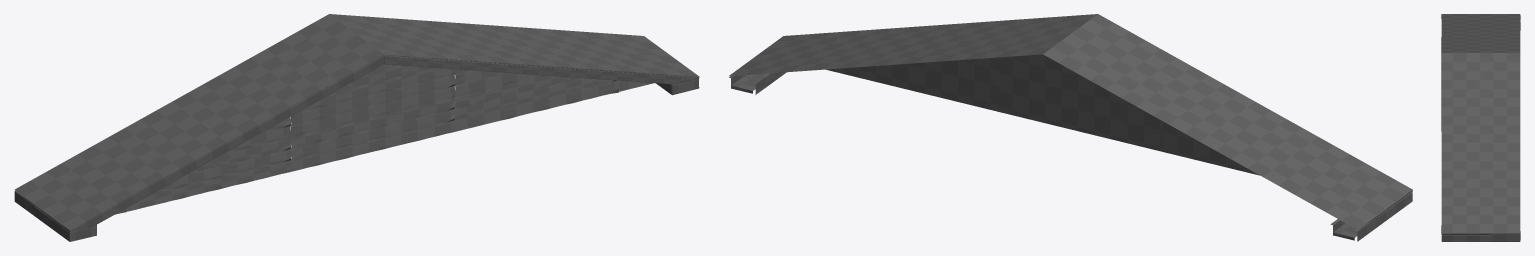
Rendered from SM_House_Roof_A_LongEnd.glb.
3 views of the same model, side by side, from view 1: azimuth 30°, elevation 25°; view 2: azimuth 150°, elevation 25°; view 3: azimuth 270°, elevation 25° (orthographic). The views are drawn at different scales.
Parts seen in each view (by area): view 1: SM_House_Roof_A_LongEnd; view 2: SM_House_Roof_A_LongEnd; view 3: SM_House_Roof_A_LongEnd.
Part boxes in pixels (<box>): SM_House_Roof_A_LongEnd: <box>14,14,699,241</box>; SM_House_Roof_A_LongEnd: <box>729,14,1412,241</box>; SM_House_Roof_A_LongEnd: <box>1441,14,1520,241</box>.
Size of the model in its own units: 1151 by 194 by 175.
1 material, 1 textured.
